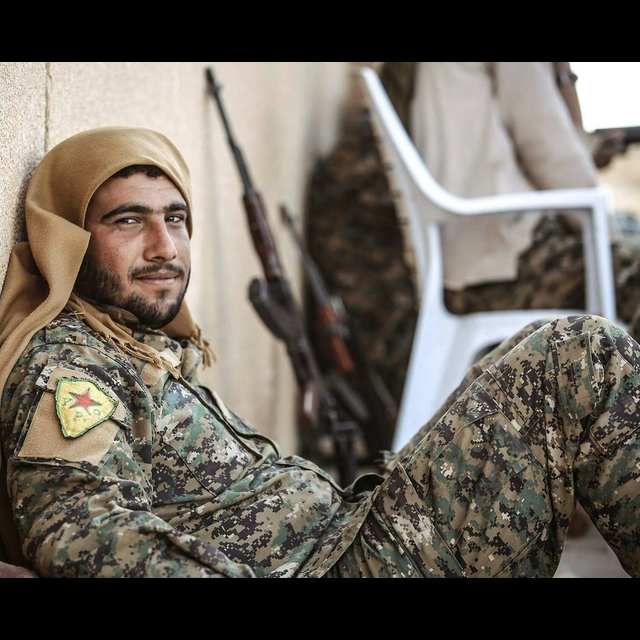YPG: (51, 374, 119, 442)
